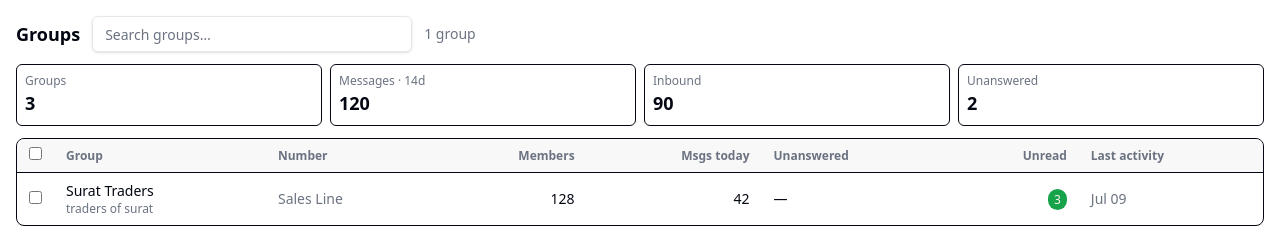
Test: GroupsPage › agents see no bulk message button
Click the checkbox named "Select Surat Traders" at (36, 198), box [29, 191, 42, 204]
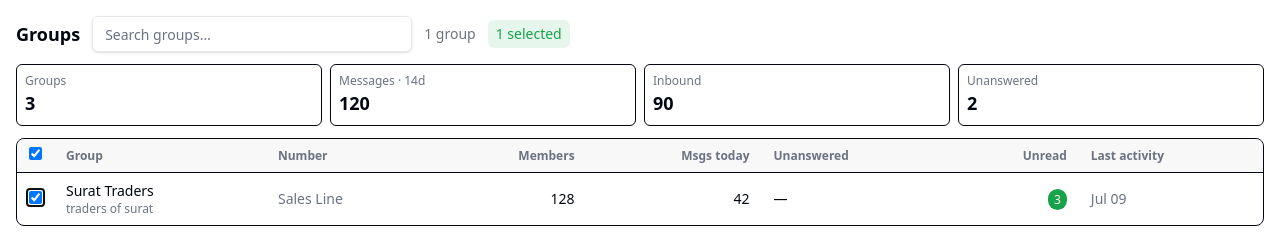
Check: the text with test id "bulk-bar" reads "1 selected", box [488, 20, 570, 48]
